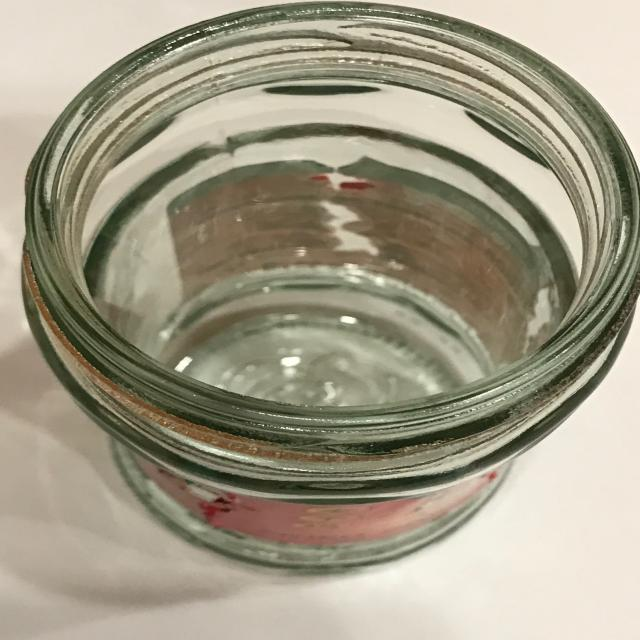glass: (19, 0, 640, 574)
